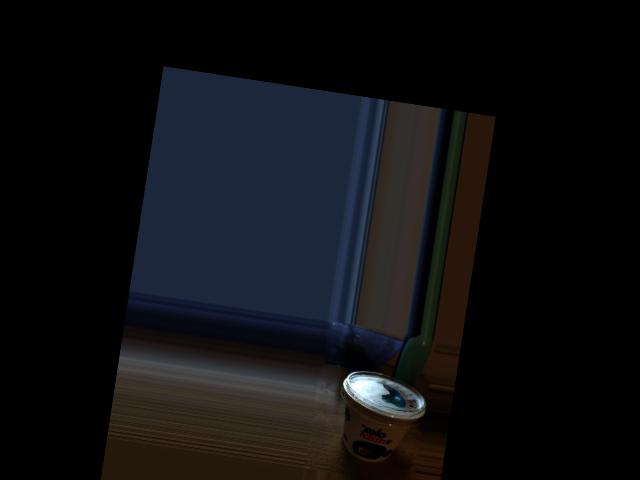cotage: (337, 368, 420, 461)
